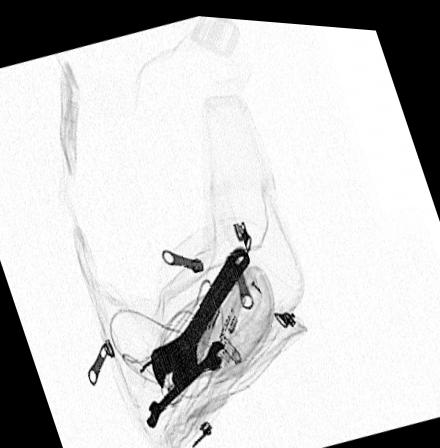Wrench: (151, 244, 249, 387), (146, 336, 225, 424)
